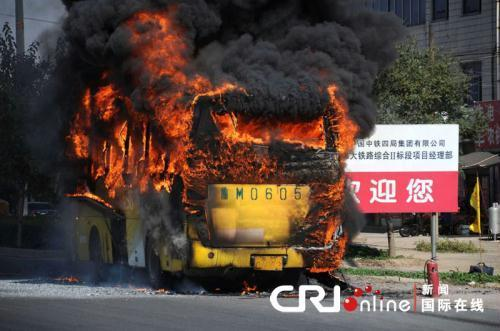fire: (77, 93, 355, 210)
smoke: (192, 7, 394, 87)
